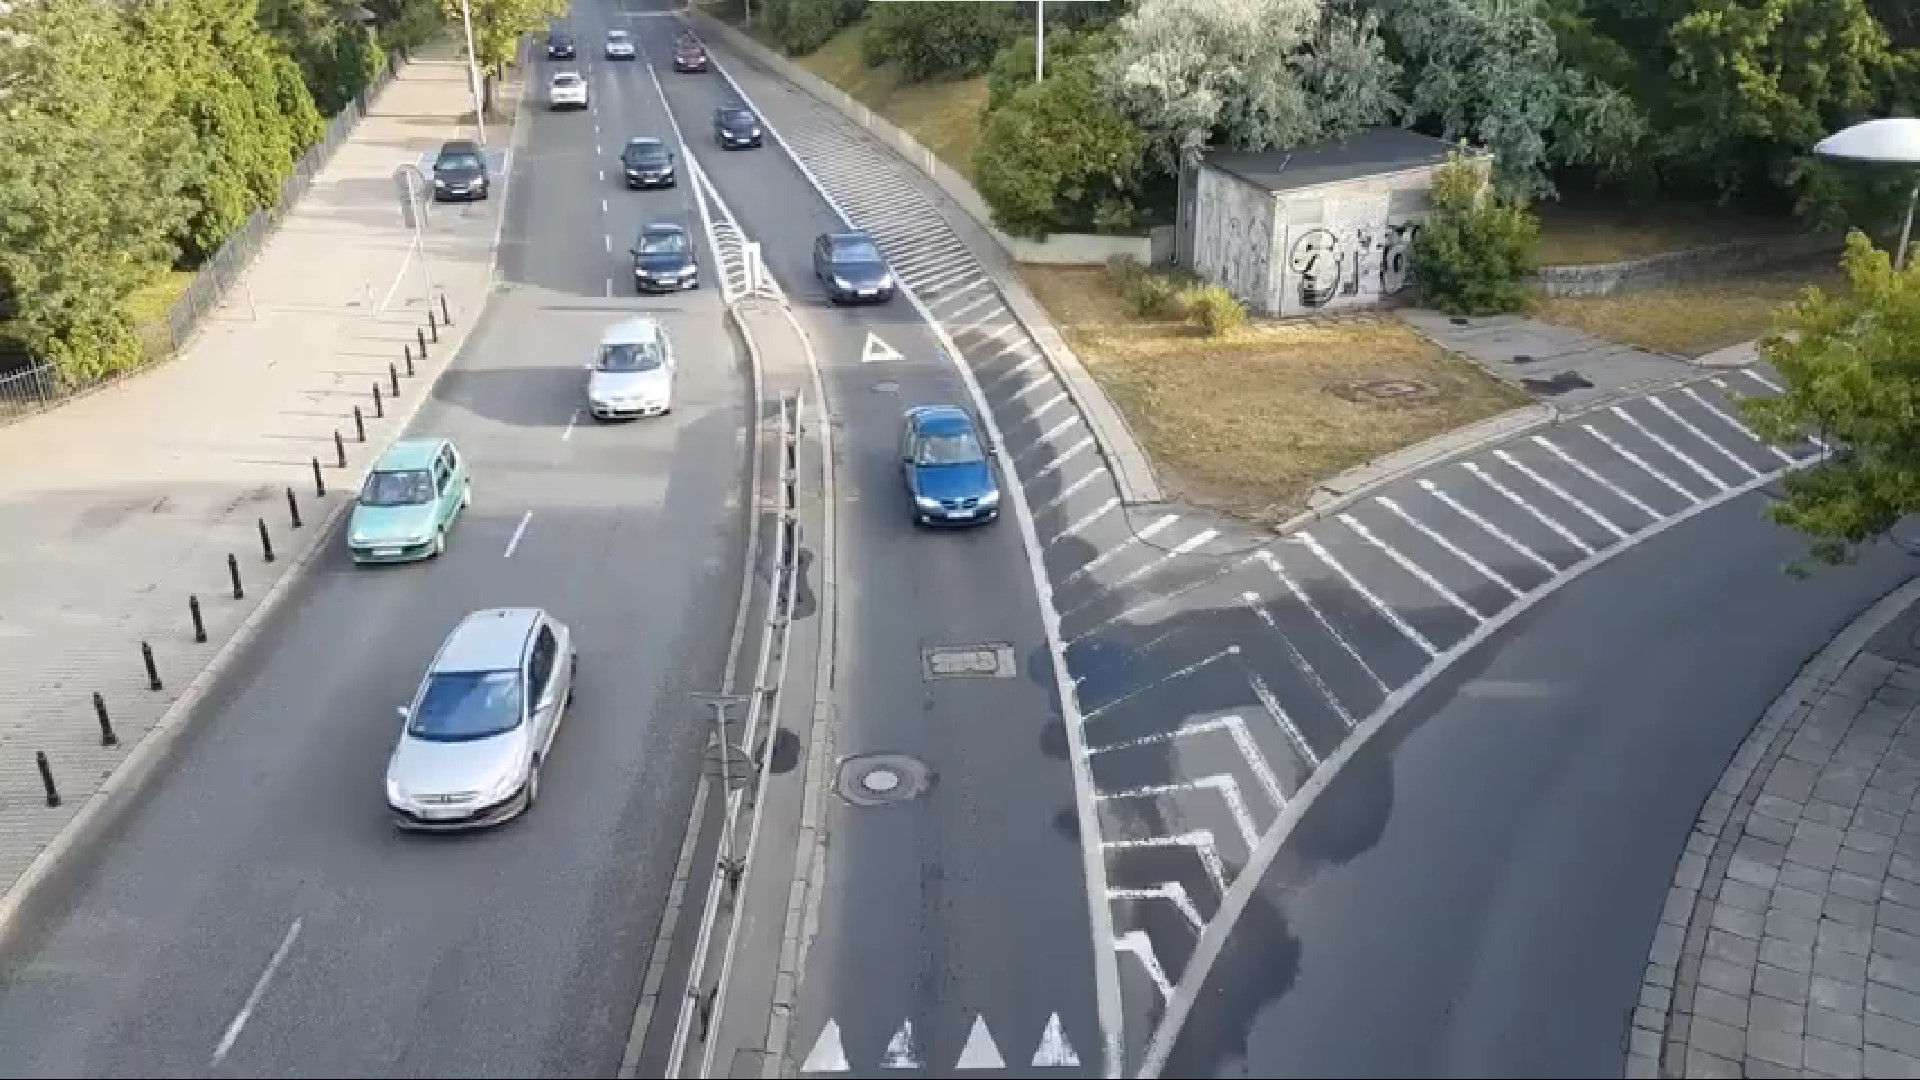mobil: (375, 596, 583, 845), (338, 435, 477, 574), (895, 400, 1010, 537), (585, 314, 673, 426), (808, 229, 895, 310), (628, 219, 705, 297), (618, 131, 682, 196), (430, 140, 491, 203), (711, 104, 764, 152), (543, 73, 593, 115), (670, 40, 709, 76), (601, 26, 634, 67), (543, 32, 575, 61)
